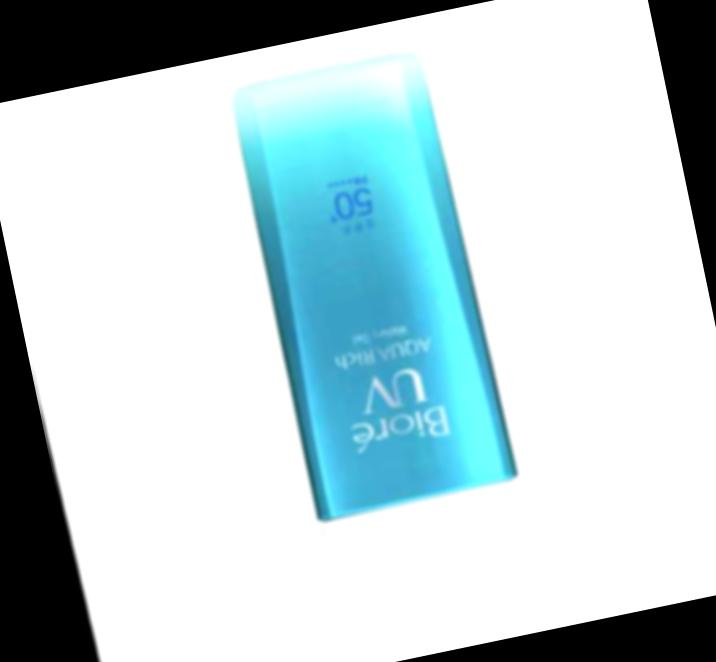cosmetic: (217, 42, 557, 653)
